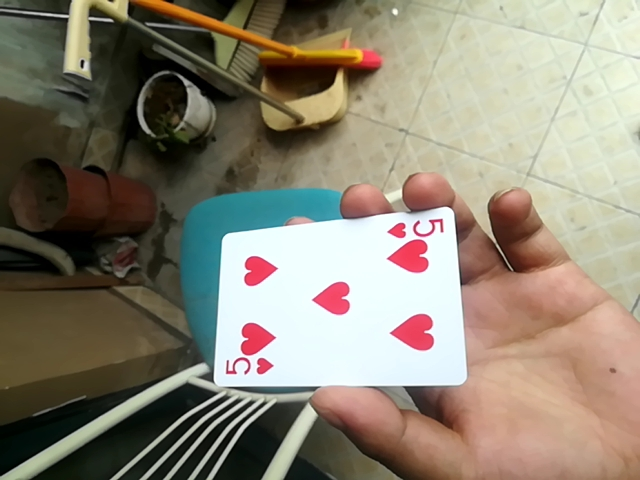hx 5: (208, 205, 463, 390)
